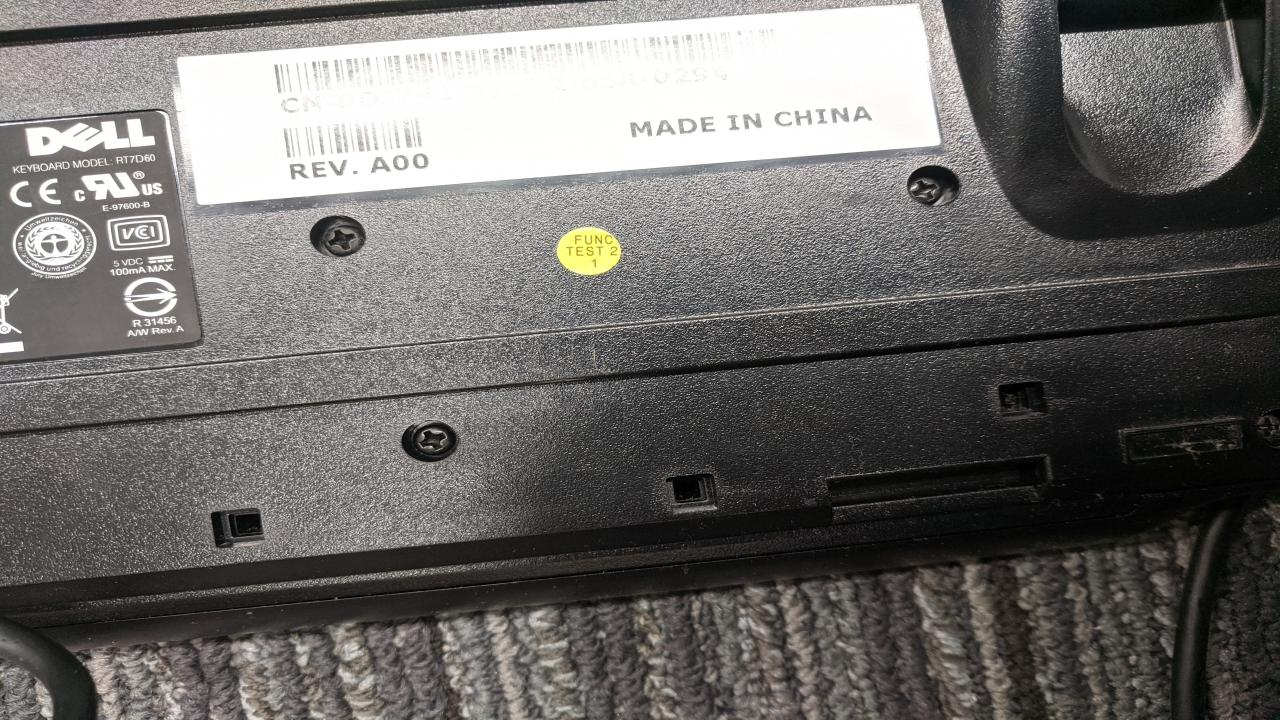CRS: (408, 423, 458, 458), (315, 221, 366, 252), (904, 176, 948, 208)
